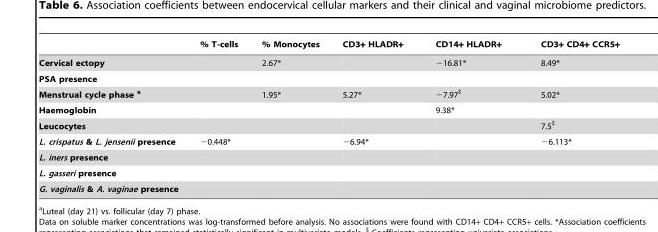table: (37, 37, 618, 193)
table column: (37, 37, 188, 193), (418, 37, 520, 193), (520, 37, 618, 193), (330, 37, 418, 193), (249, 37, 330, 193), (188, 37, 249, 193)
table column header: (37, 37, 618, 53)
table projected row header: (37, 149, 618, 165), (37, 70, 618, 85), (37, 165, 618, 180)
table row: (37, 53, 618, 70), (37, 85, 618, 102), (37, 37, 618, 53), (37, 117, 618, 133), (37, 133, 618, 149), (37, 149, 618, 165), (37, 70, 618, 85), (37, 102, 618, 117), (37, 165, 618, 180), (37, 180, 618, 193)
